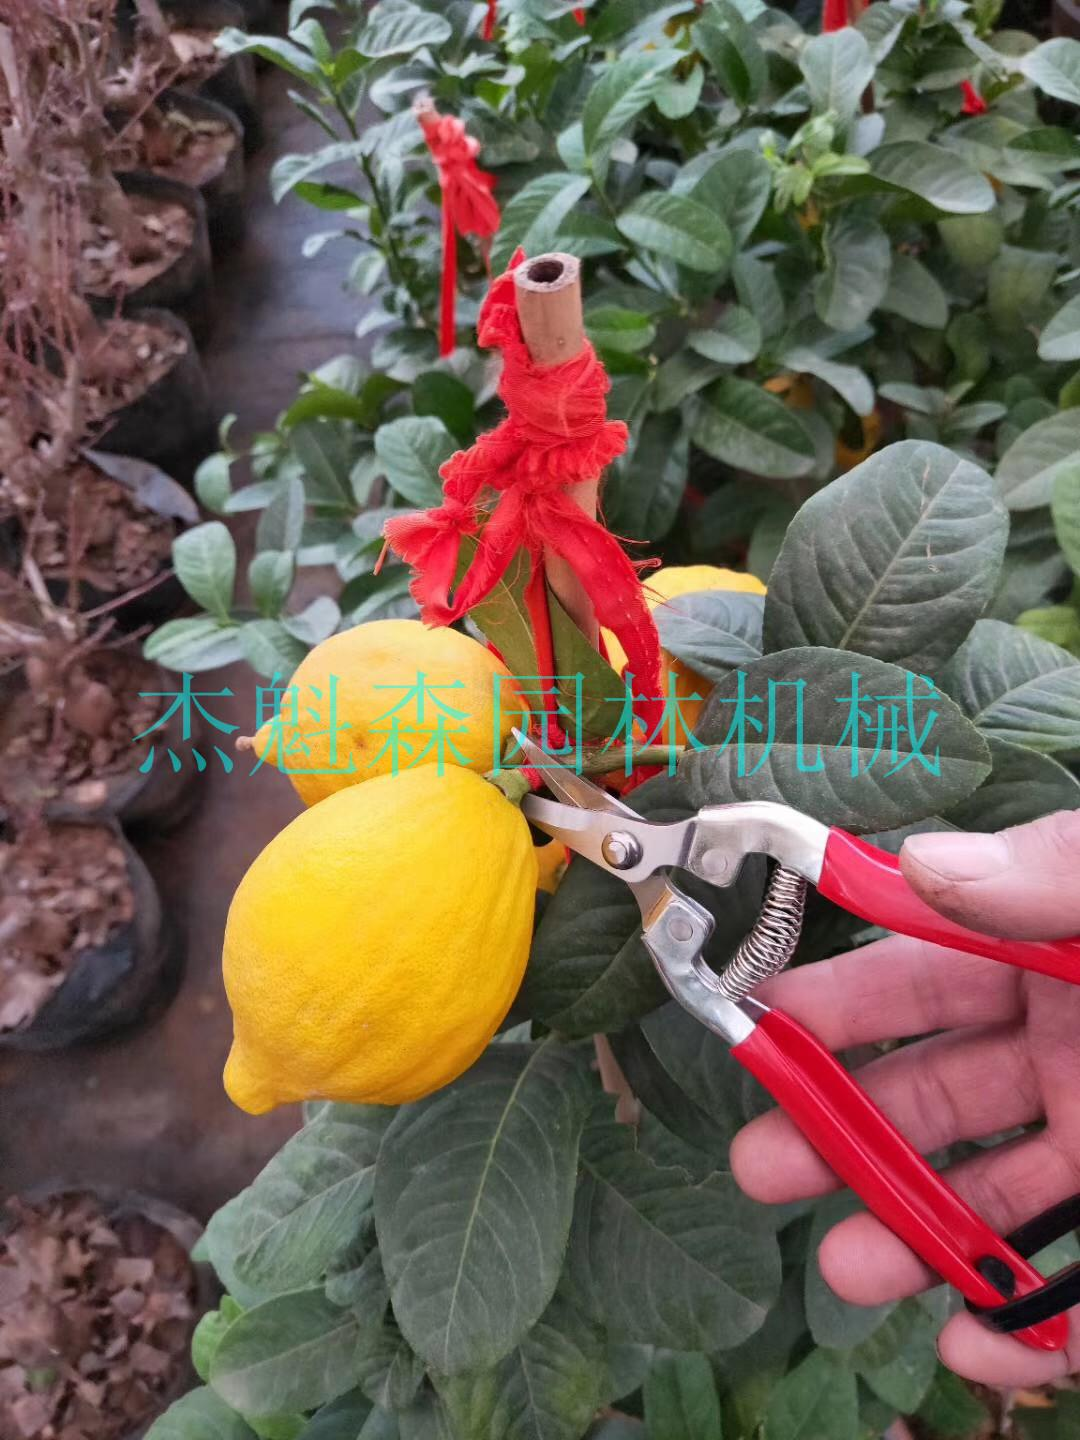scissor: (275, 477, 1080, 1267)
